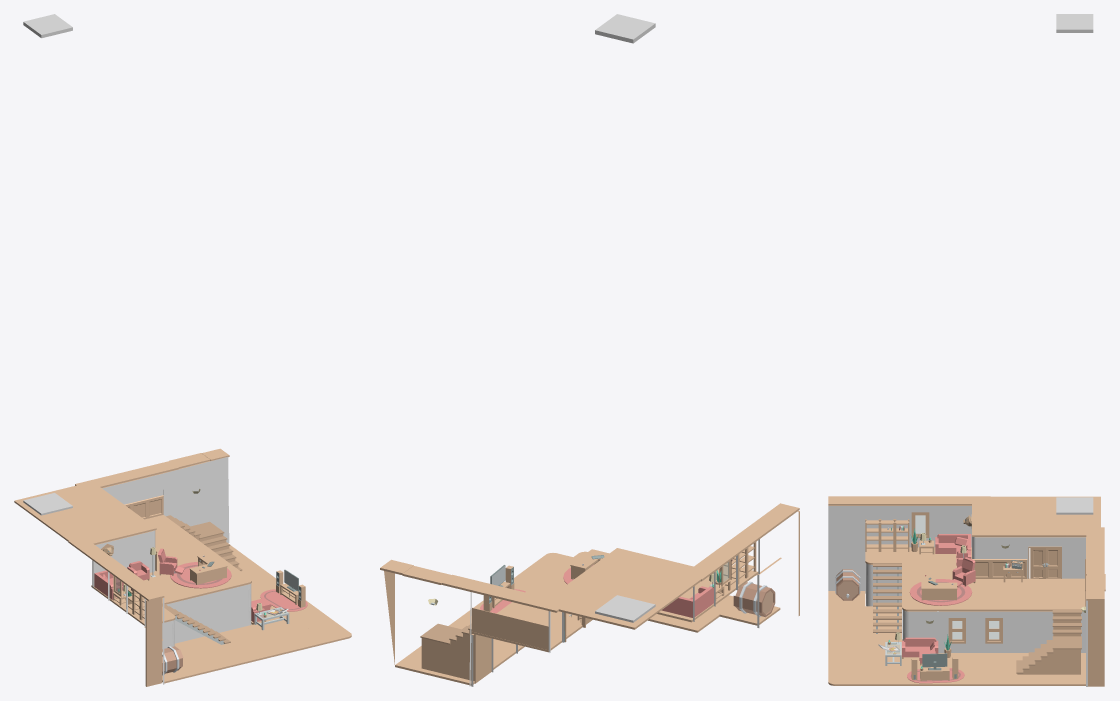
File: house.glb
The picture shows the model from 3 angles, left to right: view 1: azimuth 30°, elevation 25°; view 2: azimuth 150°, elevation 25°; view 3: azimuth 270°, elevation 25°; orthographic projection. The views are drawn at different scales.
Parts seen in each view (by area): view 1: bear(Clone), 立方體.001, 立方體; view 2: bear(Clone), barrel, 立方體.001, 立方體; view 3: bear(Clone), 立方體.001, barrel, 立方體.
Boxes of the visible parts, x1,y1,x2,y2 form: bear(Clone): [14, 448, 351, 686]; 立方體.001: [23, 14, 72, 38]; 立方體: [23, 493, 72, 515]; bear(Clone): [380, 503, 799, 686]; barrel: [733, 581, 775, 617]; 立方體.001: [595, 14, 655, 43]; 立方體: [595, 595, 655, 622]; bear(Clone): [828, 496, 1105, 686]; 立方體.001: [1056, 14, 1093, 32]; barrel: [835, 569, 860, 600]; 立方體: [1056, 497, 1093, 514].
Size of the model in its own units: 6.64 by 17.21 by 7.52.
